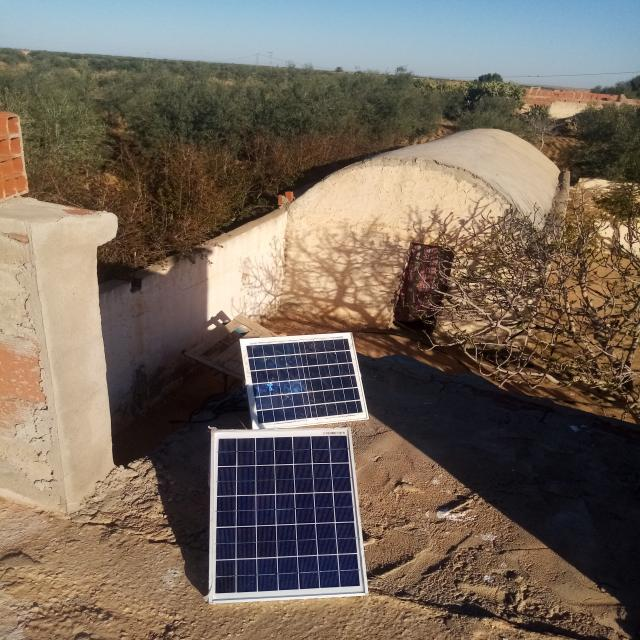faulty: (242, 333, 368, 428)
no faulty: (208, 428, 368, 604)
